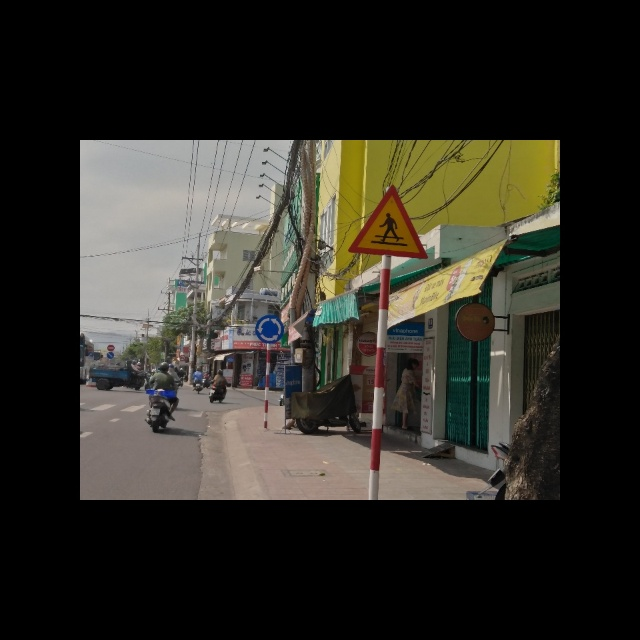Nơi giao nhau chạy theo vòng xuyến: (255, 314, 283, 342)
Đường người đi bộ sang đường: (346, 183, 429, 260)
